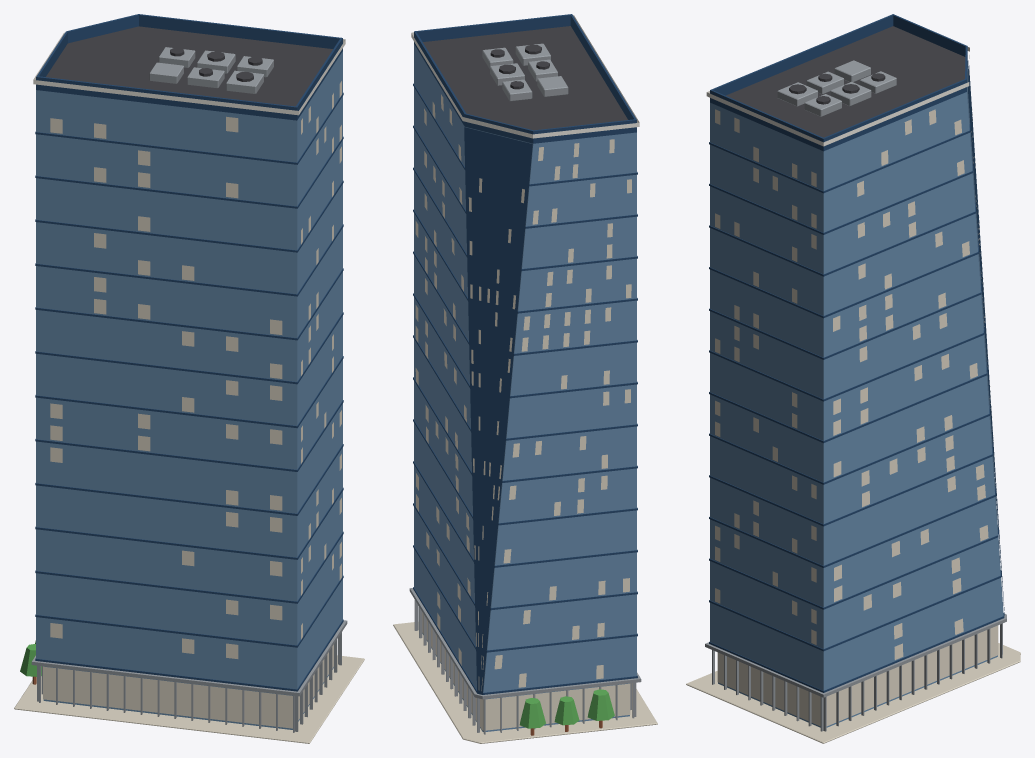
File: 535-mission-street.glb
3 renders of one model, left to right at view 1: azimuth 30°, elevation 25°; view 2: azimuth 150°, elevation 25°; view 3: azimuth 270°, elevation 25°, orthographic. The views are drawn at different scales.
Visible parts, largest first — view 1: 535-mission-street_body, 535-mission-street_night_glow; view 2: 535-mission-street_body, 535-mission-street_night_glow; view 3: 535-mission-street_body, 535-mission-street_night_glow.
Part boxes in pixels (x1,y1,x2,y2): 535-mission-street_body: [14, 14, 364, 743]; 535-mission-street_night_glow: [33, 32, 345, 728]; 535-mission-street_body: [393, 14, 657, 743]; 535-mission-street_night_glow: [411, 15, 639, 730]; 535-mission-street_body: [686, 14, 1020, 743]; 535-mission-street_night_glow: [706, 47, 999, 726].
Bounding box in the file's own units: 60.14 × 115 × 58.62.
